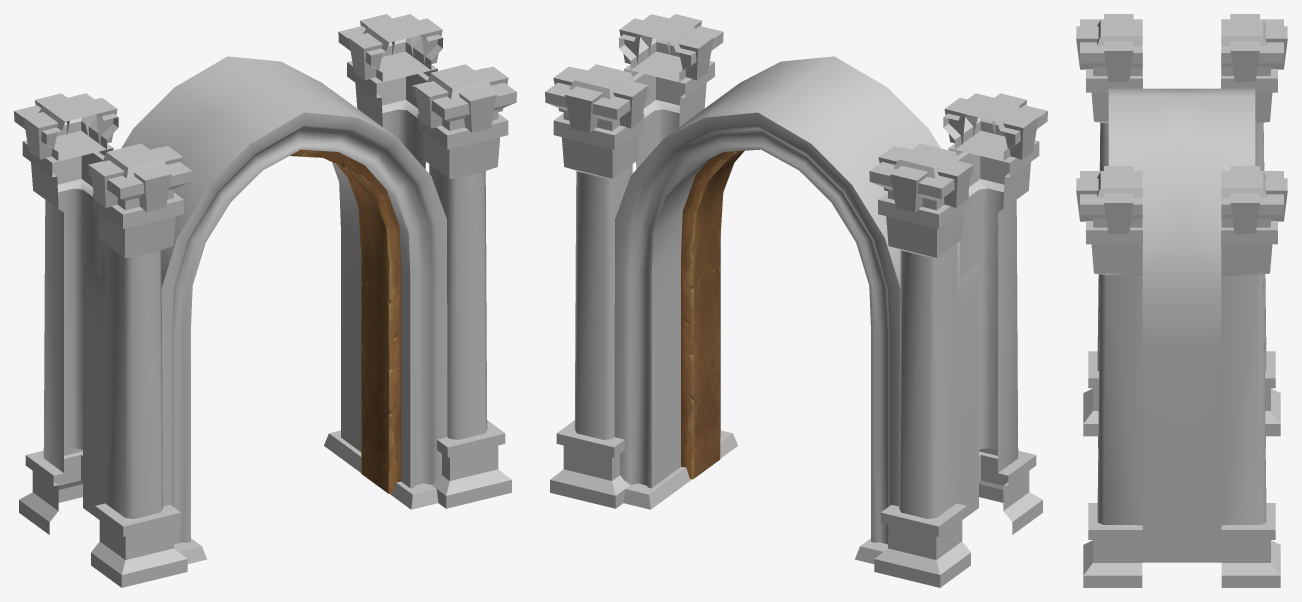
Rendered from Arch_Door_08.FBX.
3 renders of one model, left to right at view 1: azimuth 30°, elevation 25°; view 2: azimuth 150°, elevation 25°; view 3: azimuth 270°, elevation 25°, orthographic. The views are drawn at different scales.
Parts seen in each view (by area): view 1: Arch_Door_08; view 2: Arch_Door_08; view 3: Arch_Door_08.
Boxes of the visible parts, box(x1,y1,x2,y2) form: Arch_Door_08: box(14, 14, 516, 587); Arch_Door_08: box(545, 14, 1047, 587); Arch_Door_08: box(1076, 14, 1287, 587).
Size of the model in its own units: 567 by 268 by 561.
